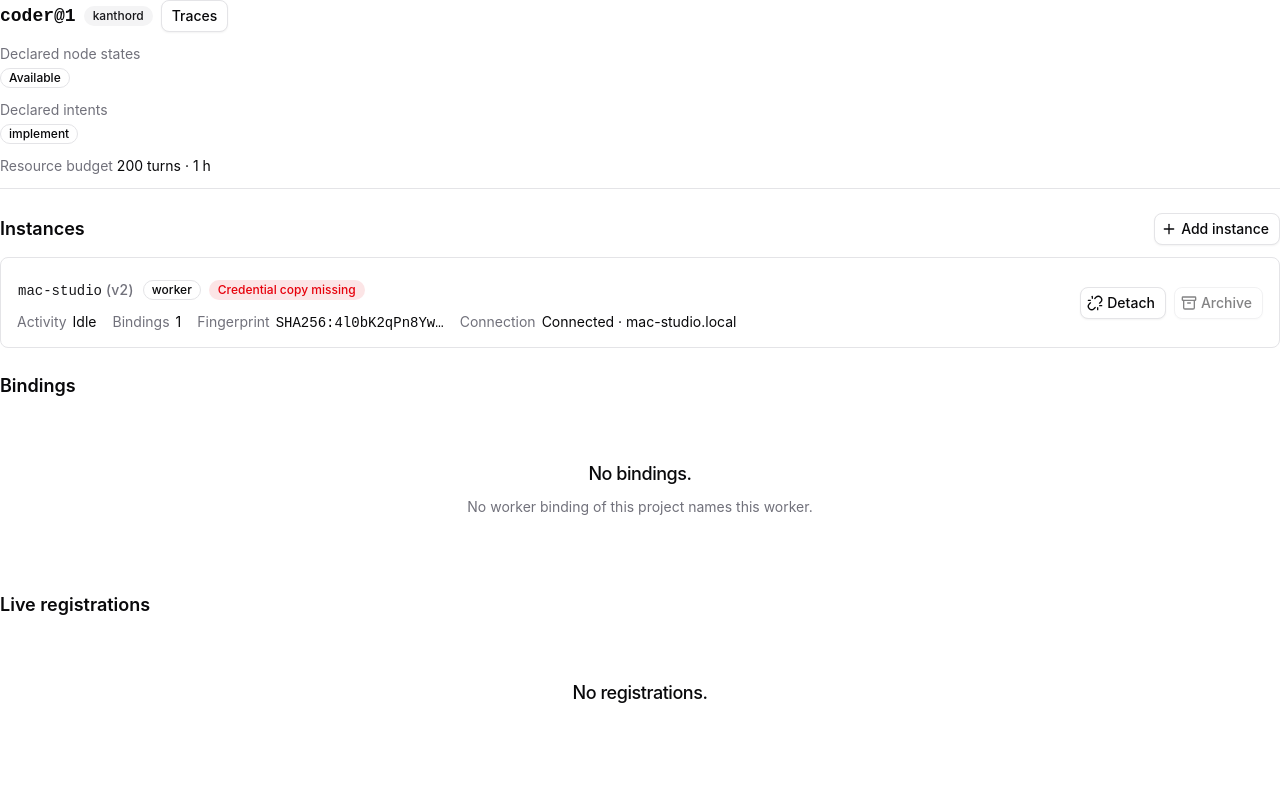
it: WorkerScreen › turns Container off while the placement list loads
The width and height of the screenshot is (1280, 800).
Click the button "Add instance" at (1217, 229), box [1154, 213, 1279, 245]
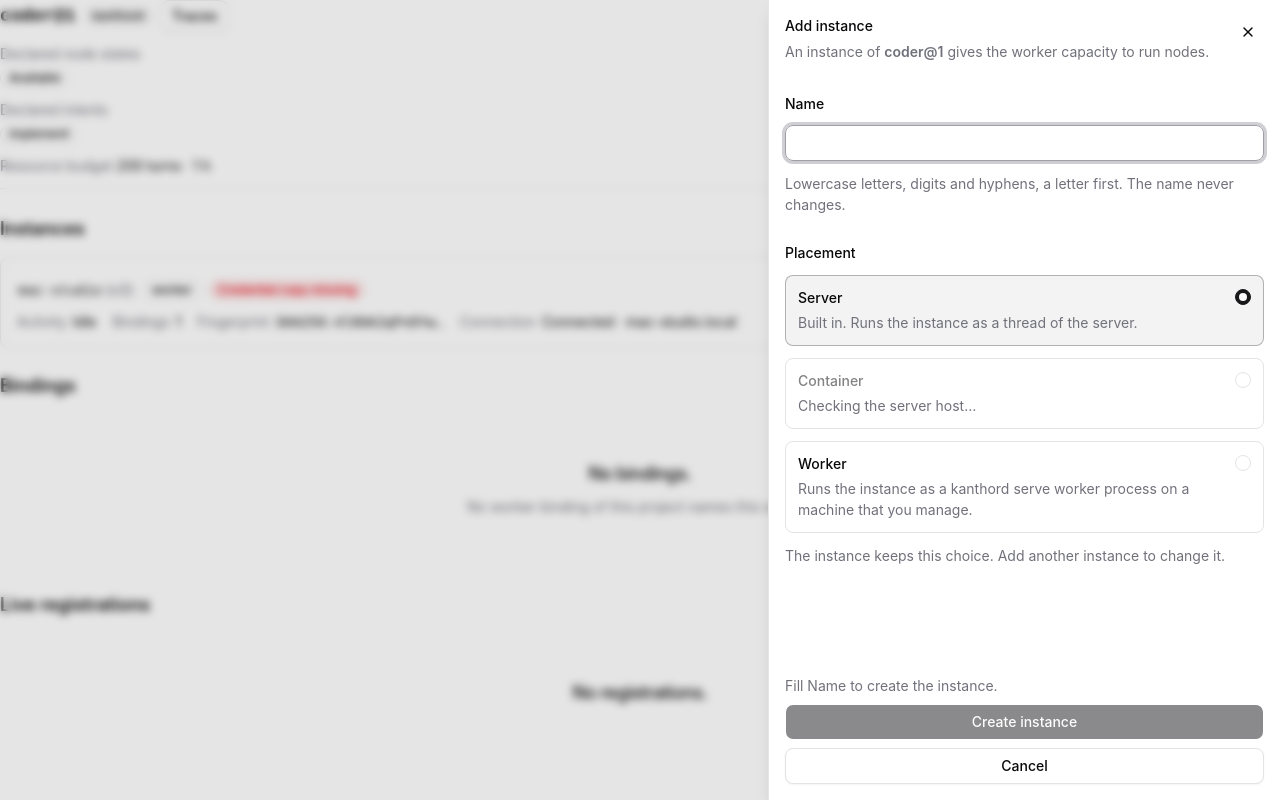
Now the text "Checking the server host…" is shown, box [798, 397, 976, 414]
